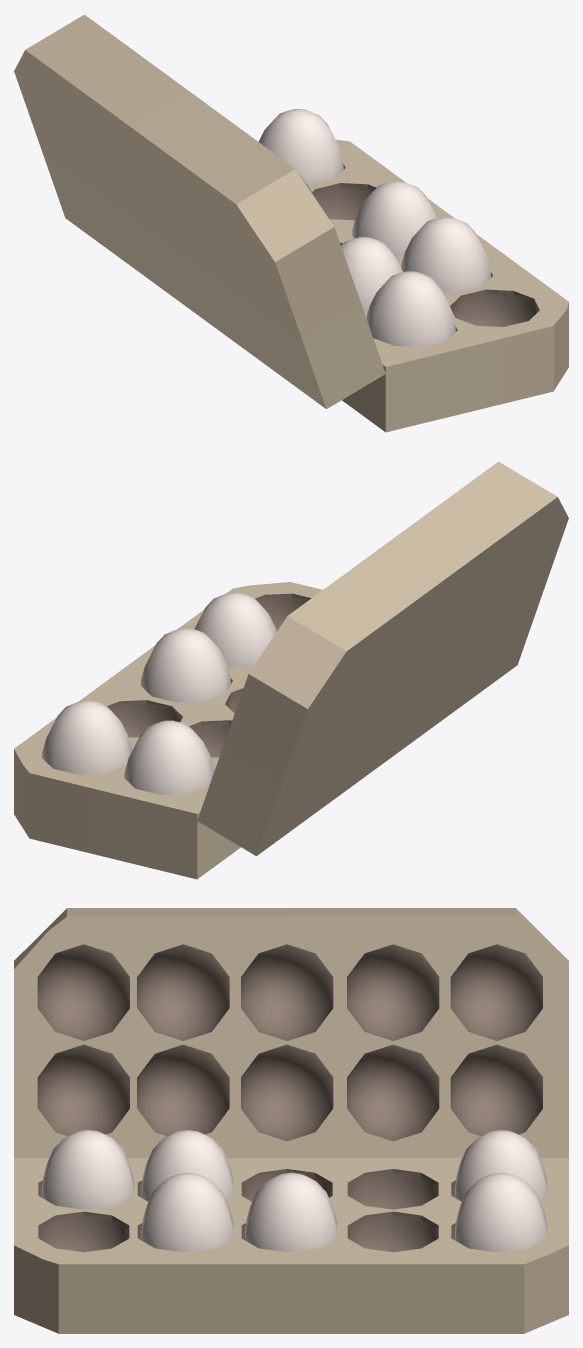
File: _gg_Carton.fbx
3 views of the same model, one above another, from view 1: azimuth 30°, elevation 25°; view 2: azimuth 150°, elevation 25°; view 3: azimuth 270°, elevation 25° (orthographic). The views are drawn at different scales.
Parts seen in each view (by area): view 1: pCube24, pCube14, Egg4, Egg10, Egg8, Egg9, Egg2; view 2: pCube24, pCube14, Egg9, Egg5, Egg8, Egg10; view 3: pCube24, pCube14, Egg10, Egg8, Egg4, Egg9, Egg2, Egg5.
Boxes of the visible parts, bbox=[...] form: pCube24: bbox=[14, 14, 385, 408]; pCube14: bbox=[307, 139, 568, 432]; Egg4: bbox=[366, 271, 455, 346]; Egg10: bbox=[401, 217, 491, 292]; Egg8: bbox=[258, 109, 343, 184]; Egg9: bbox=[352, 181, 436, 256]; Egg2: bbox=[341, 237, 402, 312]; pCube24: bbox=[197, 461, 568, 855]; pCube14: bbox=[14, 582, 322, 879]; Egg9: bbox=[140, 628, 230, 702]; Egg5: bbox=[124, 720, 214, 794]; Egg8: bbox=[42, 700, 131, 774]; Egg10: bbox=[194, 592, 276, 666]; pCube24: bbox=[14, 908, 568, 1158]; pCube14: bbox=[14, 1158, 568, 1333]; Egg10: bbox=[141, 1172, 233, 1252]; Egg8: bbox=[455, 1172, 546, 1252]; Egg4: bbox=[42, 1130, 133, 1209]; Egg9: bbox=[245, 1172, 336, 1252]; Egg2: bbox=[141, 1130, 233, 1201]; Egg5: bbox=[455, 1130, 546, 1201].
Bounding box in the file's own units: 0.022 × 0.0167 × 0.0302.
